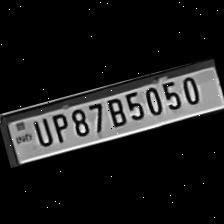0: (177, 72, 204, 106), (140, 82, 164, 116)
5: (156, 76, 182, 113), (120, 87, 145, 122)
7: (84, 98, 107, 134)
8: (66, 103, 92, 139)
B: (101, 92, 128, 128)
P: (46, 108, 72, 144)
U: (28, 113, 55, 149)
